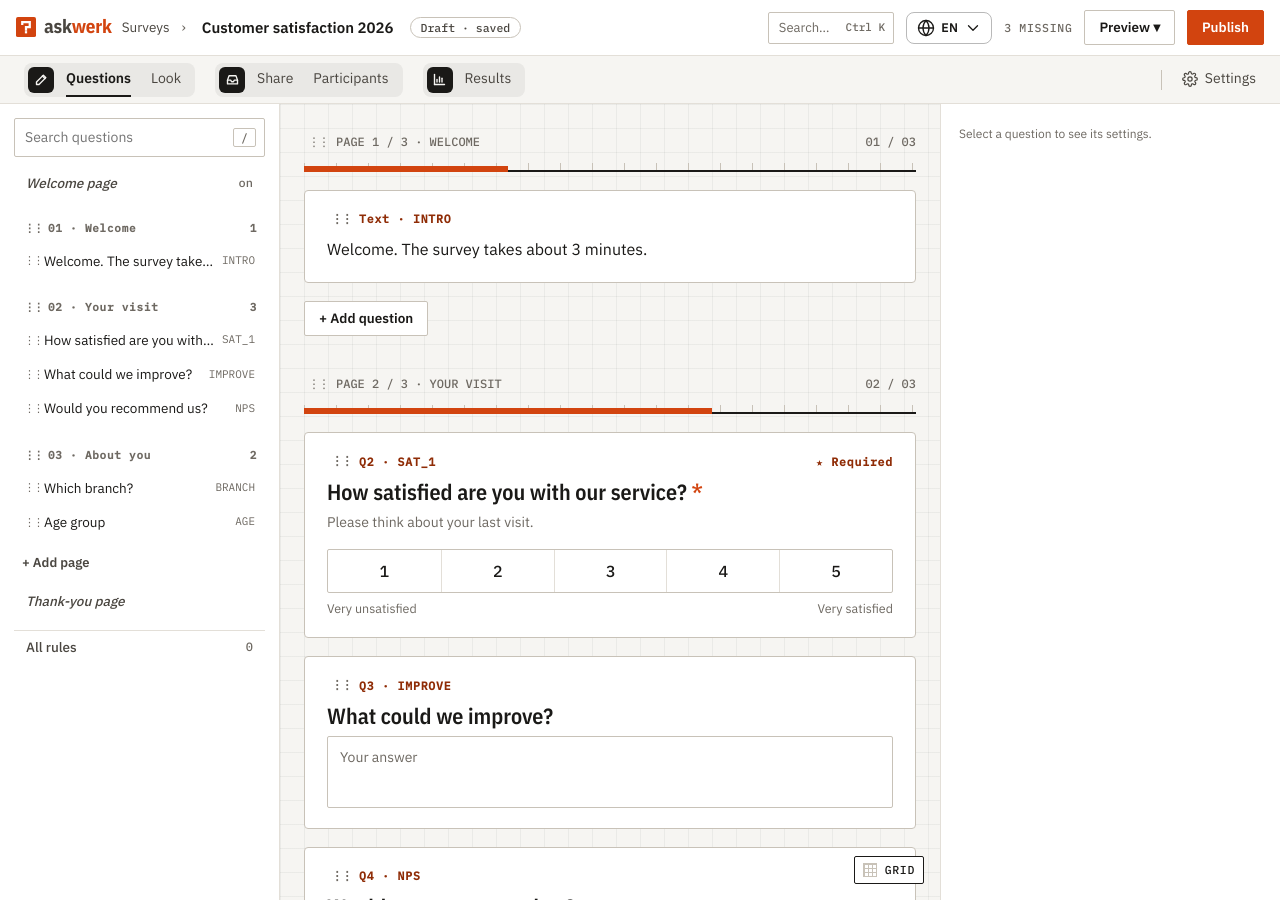
Designer main screen (M1) › explains an invalid variable name right at the field
Expected: the navigation bar named "Outline" is shown, [0, 104, 280, 899]
Click the button "Which branch? BRANCH" at [140, 488], box [16, 470, 263, 505]
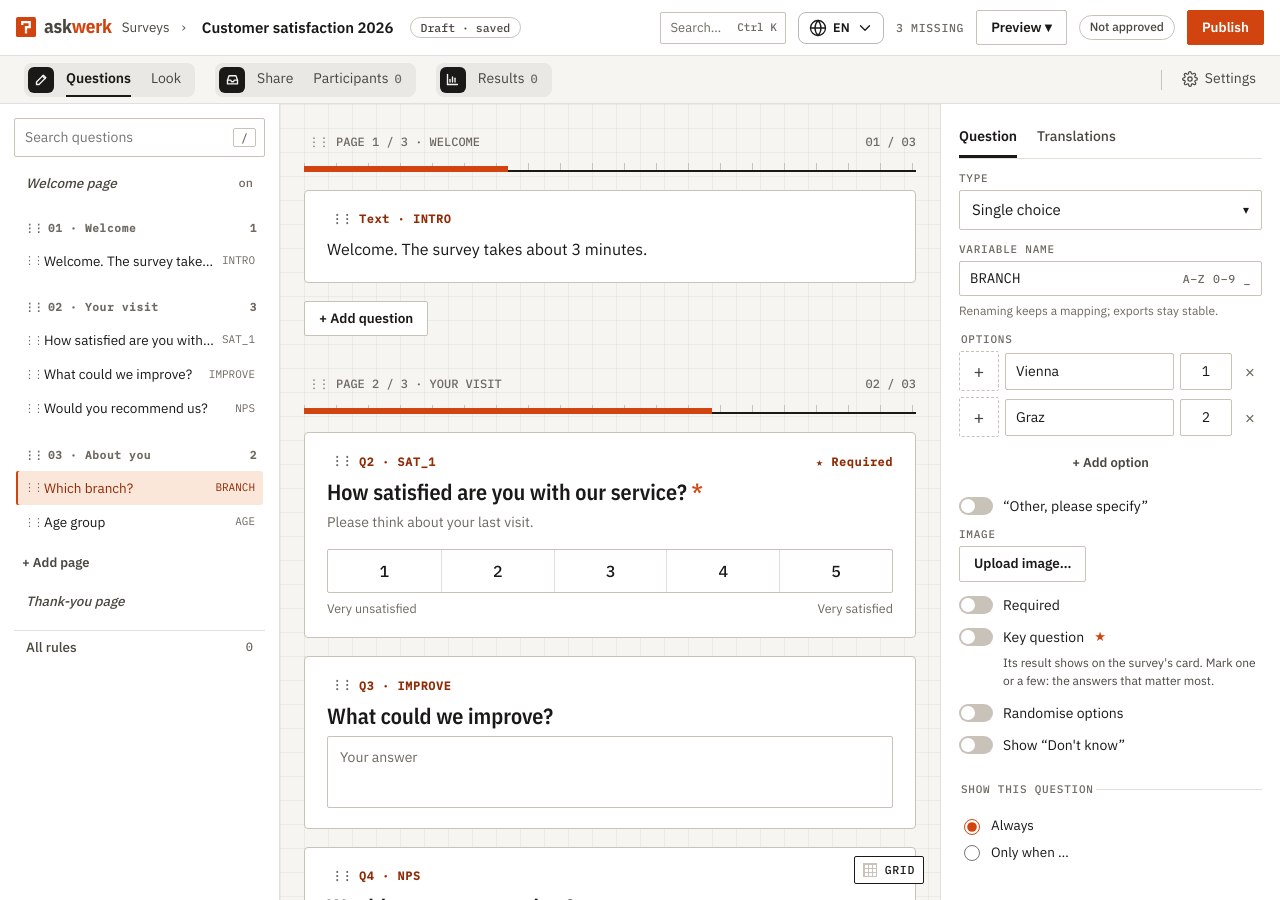
Replace the text in the field labelled "Variable name" with "branch 1" at [1072, 279], box [970, 269, 1175, 288]
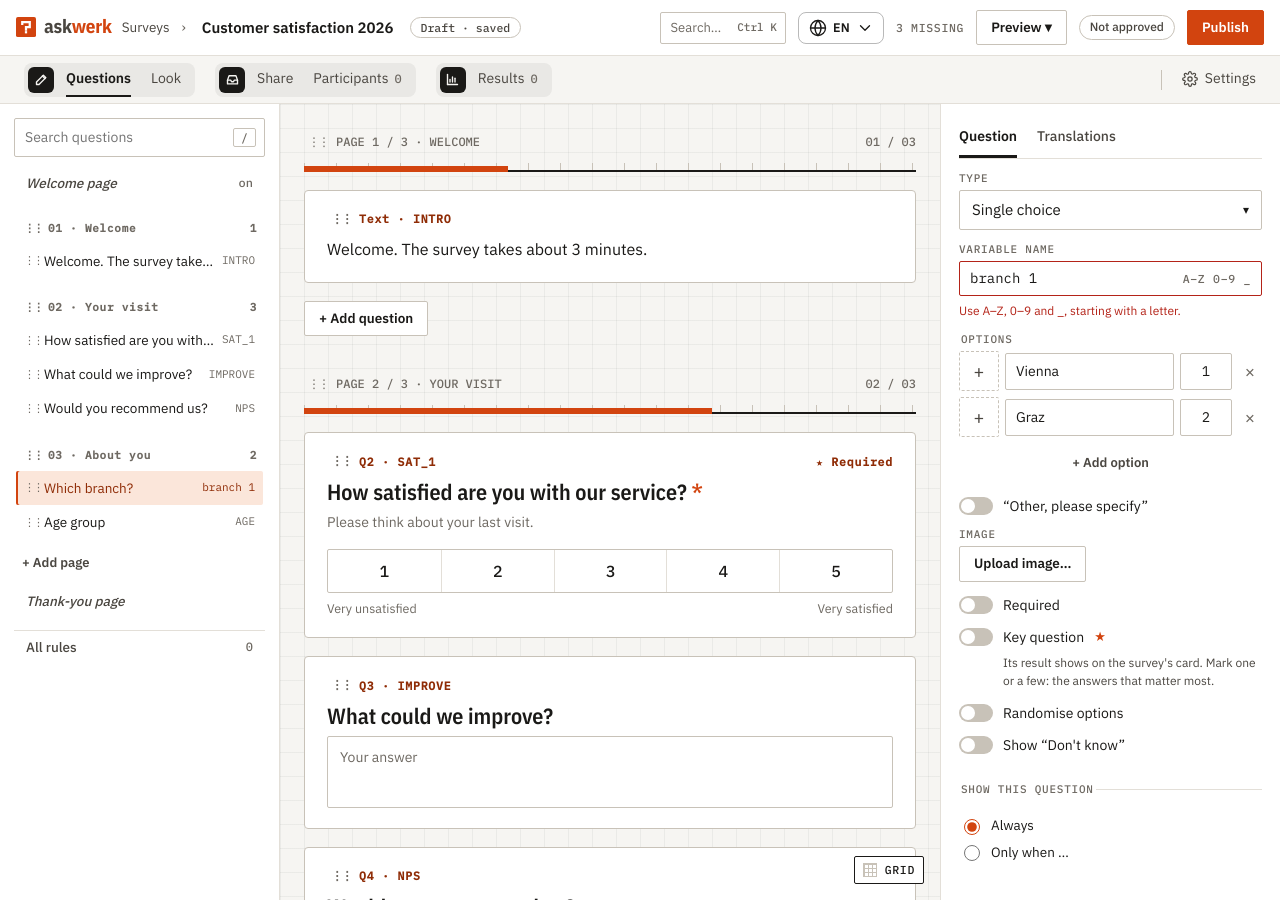
Expected: the text "Use A–Z, 0–9 and _, starting with a letter." is shown, [959, 303, 1181, 318]
